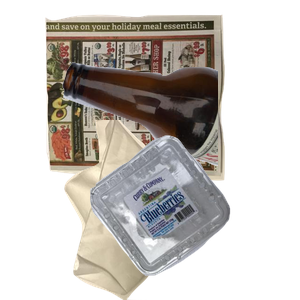glass: (60, 59, 300, 217)
paper: (42, 12, 260, 185)
plastic: (88, 133, 300, 300)
trash: (62, 120, 251, 300)
